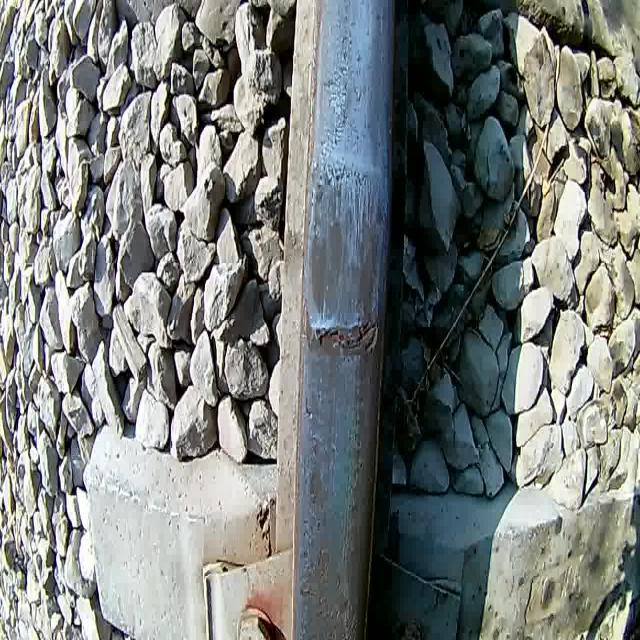Spallings: (301, 304, 385, 364)
Squats: (306, 157, 391, 329)
